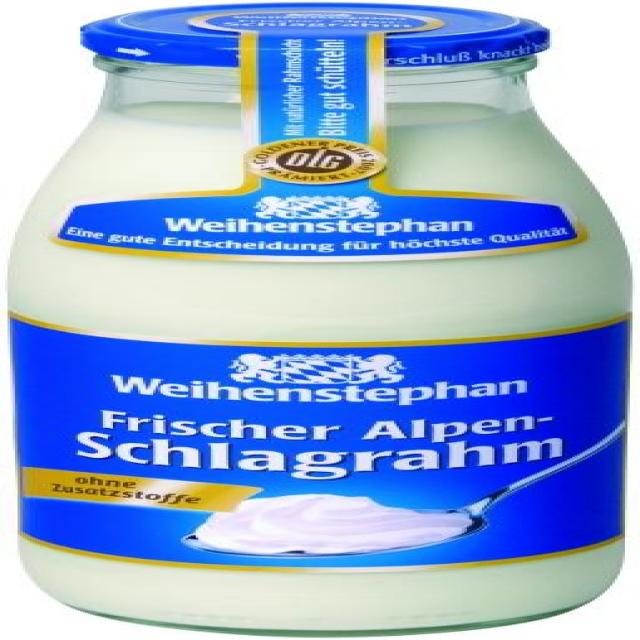cream: (13, 3, 625, 635)
